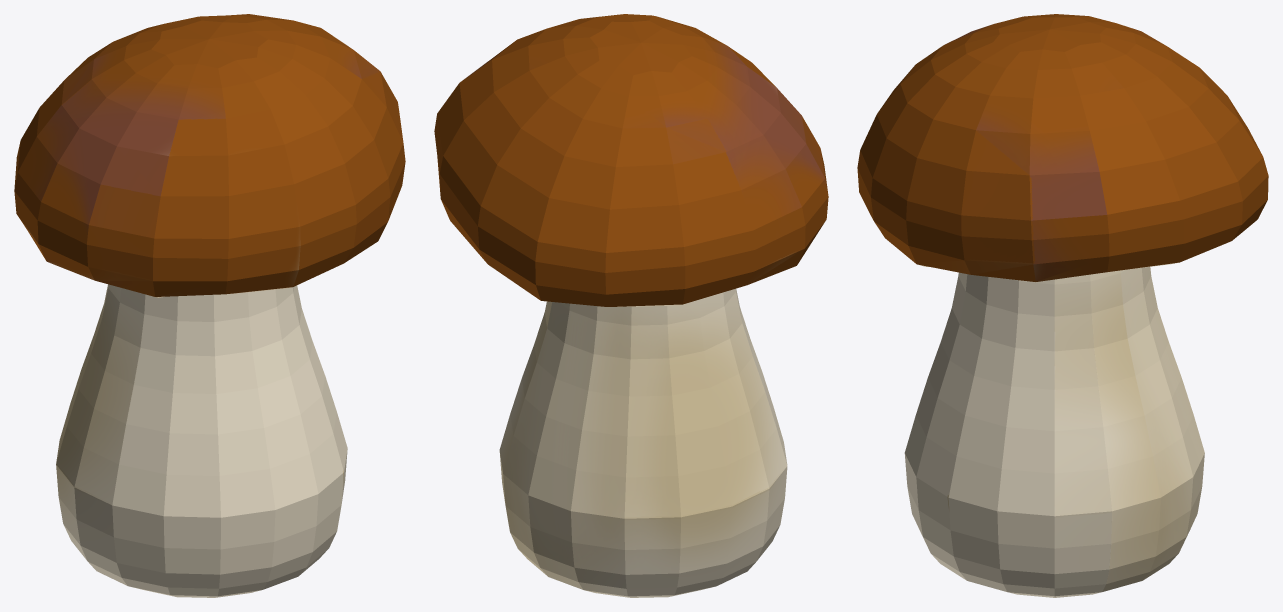
The model's file is mush-porc.glb.
3 renders of one model, left to right at view 1: azimuth 30°, elevation 25°; view 2: azimuth 150°, elevation 25°; view 3: azimuth 270°, elevation 25°, orthographic. The views are drawn at different scales.
Visible parts, largest first — view 1: Hat, Foot; view 2: Hat, Foot; view 3: Hat, Foot.
Part boxes in pixels (box(x1,y1,x2,y2)): Hat: box(14, 14, 405, 297); Foot: box(56, 284, 347, 597); Hat: box(434, 14, 828, 306); Foot: box(499, 288, 787, 597); Hat: box(857, 14, 1268, 282); Foot: box(904, 267, 1204, 597).
Bounding box in the file's own units: 1.78 × 2.57 × 1.77.
Materials: 2 (2 with a texture image).
